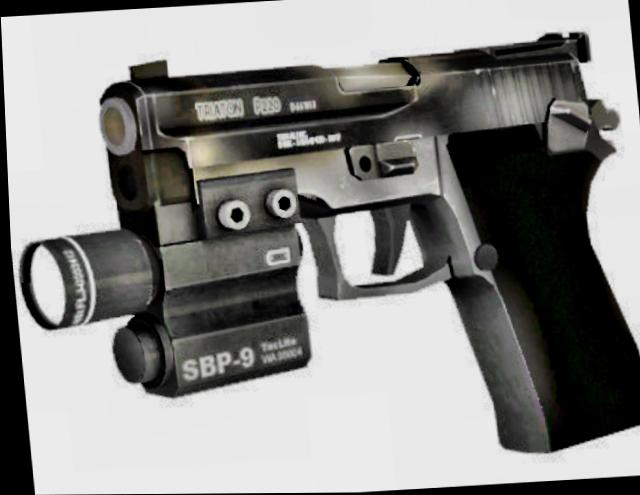pistol: (13, 26, 640, 484)
